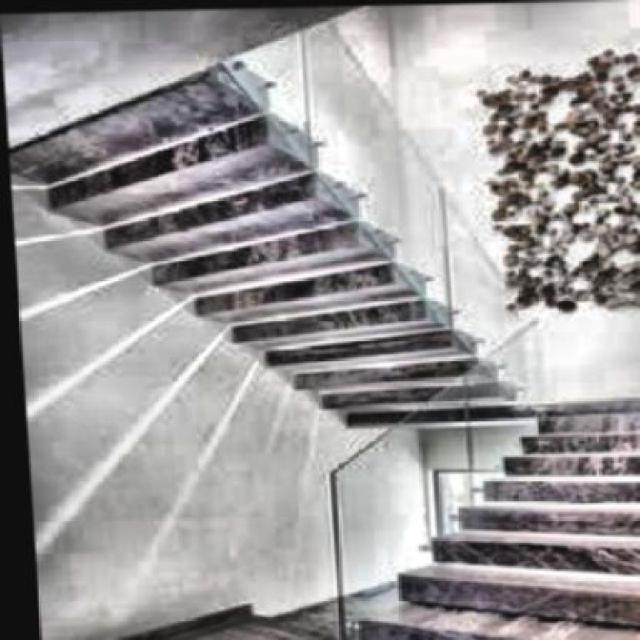stair: (306, 394, 640, 638)
